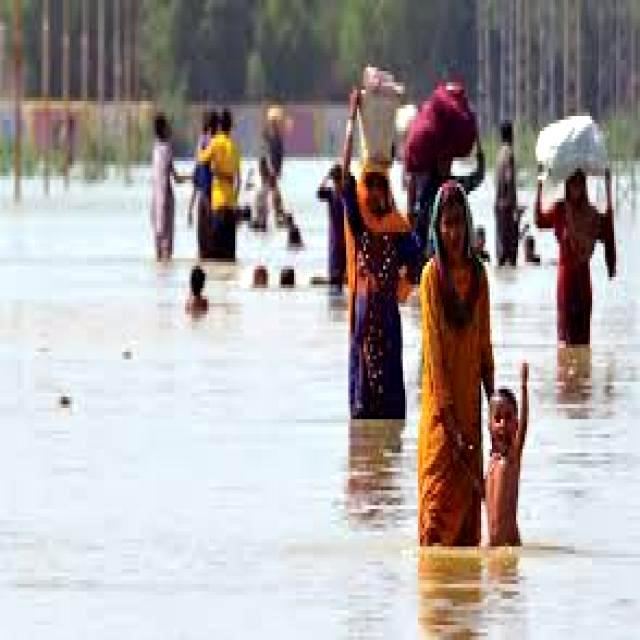civilian: (424, 178, 486, 577), (334, 158, 416, 444), (395, 134, 491, 284), (554, 162, 608, 362), (140, 103, 188, 265), (489, 373, 525, 561), (204, 102, 242, 270), (495, 114, 529, 288), (324, 160, 359, 297), (167, 263, 224, 338), (242, 138, 278, 235), (252, 105, 293, 186), (191, 101, 215, 232), (522, 229, 547, 280), (244, 260, 272, 305), (280, 213, 309, 254), (274, 266, 302, 298), (478, 222, 492, 264)
